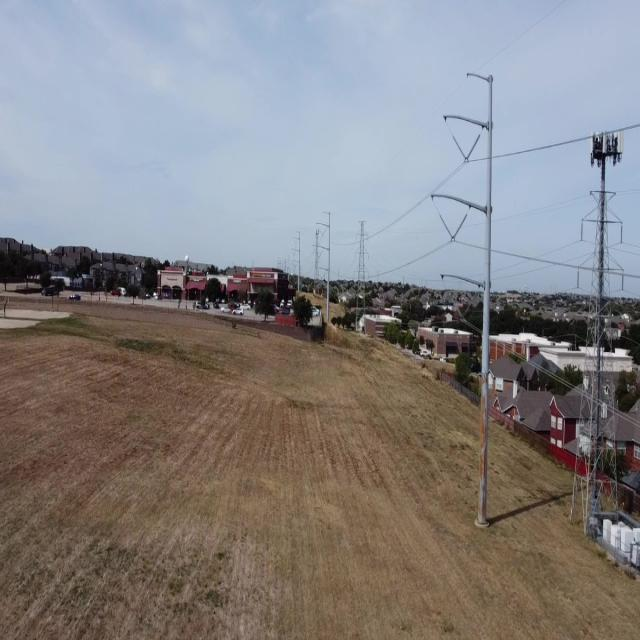杆塔: (562, 175, 628, 542), (352, 217, 371, 335), (310, 228, 323, 290)
正常绝缘子: (427, 203, 459, 247), (457, 124, 485, 173), (454, 284, 481, 333), (444, 203, 472, 250), (446, 286, 467, 327), (449, 130, 470, 166), (620, 268, 626, 293), (575, 266, 580, 290), (619, 222, 624, 245), (580, 218, 584, 242)
